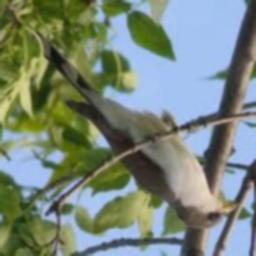Cuckoo: (30, 30, 239, 229)
